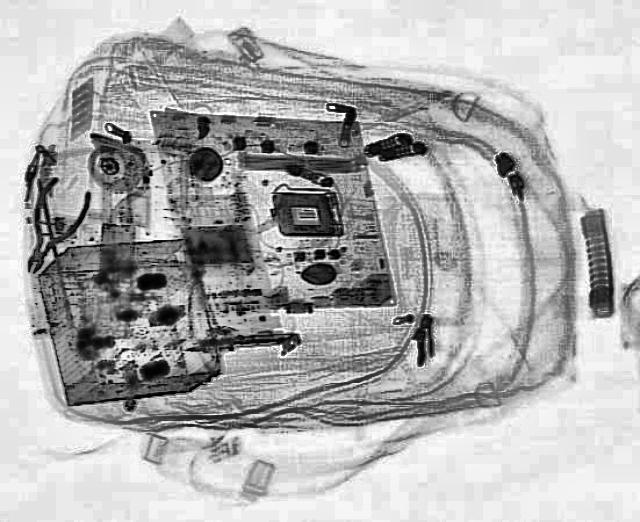Pliers: (3, 174, 97, 280)
